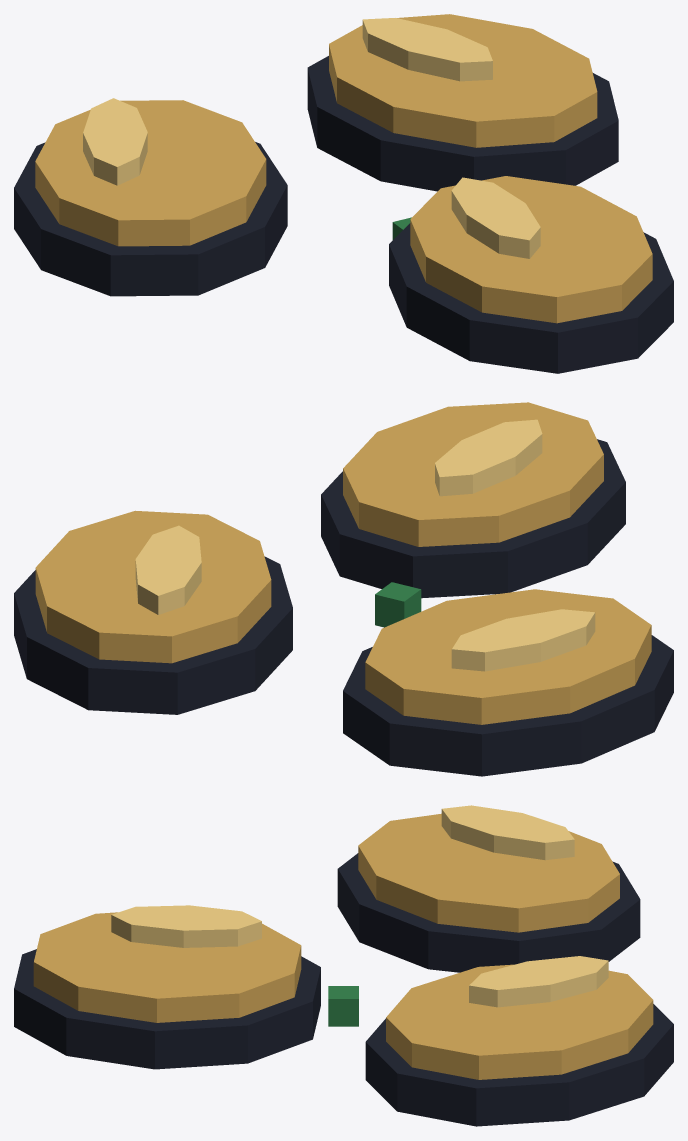
File: tomato_seeds.fbx
3 views of the same model, one above another, from view 1: azimuth 30°, elevation 25°; view 2: azimuth 150°, elevation 25°; view 3: azimuth 270°, elevation 25° (orthographic). The views are drawn at different scales.
Parts seen in each view (by area): view 1: tomato_seeds__Icon; view 2: tomato_seeds__Icon, tomato_seeds__Origin; view 3: tomato_seeds__Icon, tomato_seeds__Origin.
Part boxes in pixels (x1=…): tomato_seeds__Icon: x1=14, y1=14, x2=673, y2=373; tomato_seeds__Icon: x1=14, y1=402, x2=673, y2=776; tomato_seeds__Origin: x1=375, y1=582, x2=421, y2=627; tomato_seeds__Icon: x1=14, y1=805, x2=673, y2=1126; tomato_seeds__Origin: x1=328, y1=986, x2=358, y2=1026.
Bounding box in the file's own units: 0.8075 × 0.145 × 0.8619.
1 material, 1 textured.
